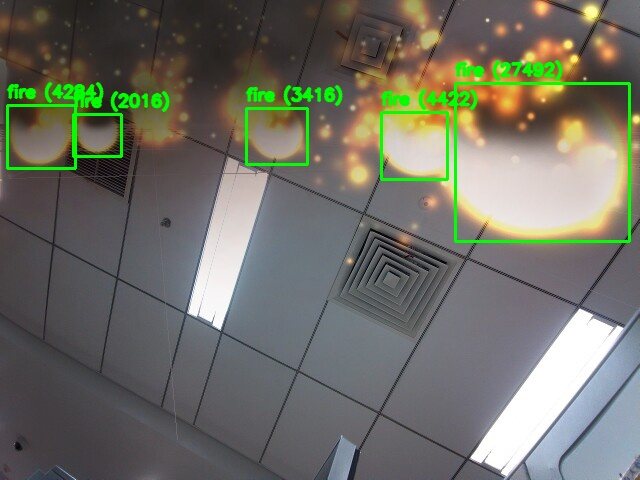fire: (455, 83, 629, 241), (381, 112, 447, 179), (7, 105, 75, 168), (246, 108, 307, 164), (73, 114, 121, 156)
